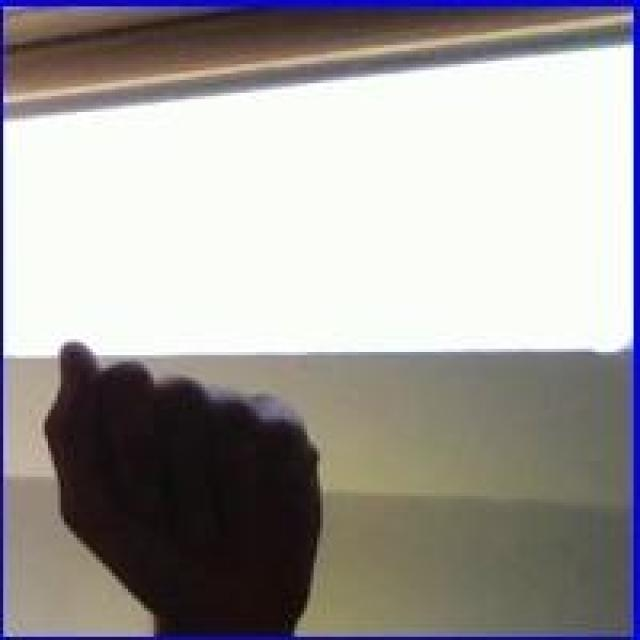A: (40, 338, 322, 622)
